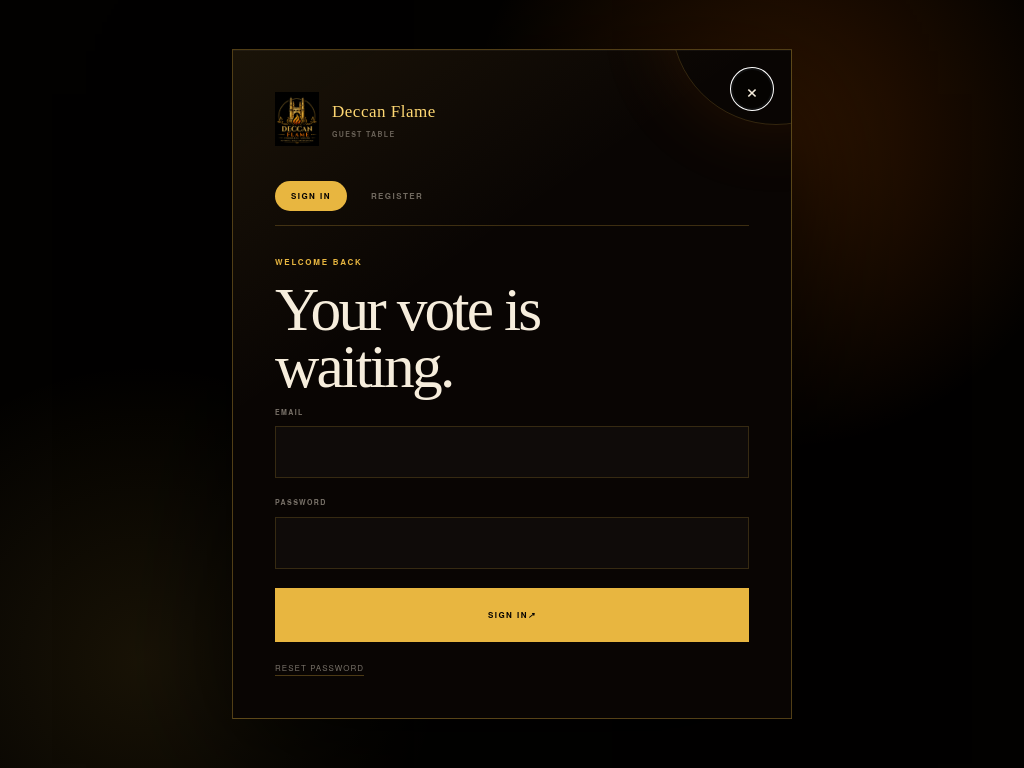
it: account dialog › requires an email before requesting a password reset
Click the button "Reset password" at (320, 668), box [275,660,364,676]
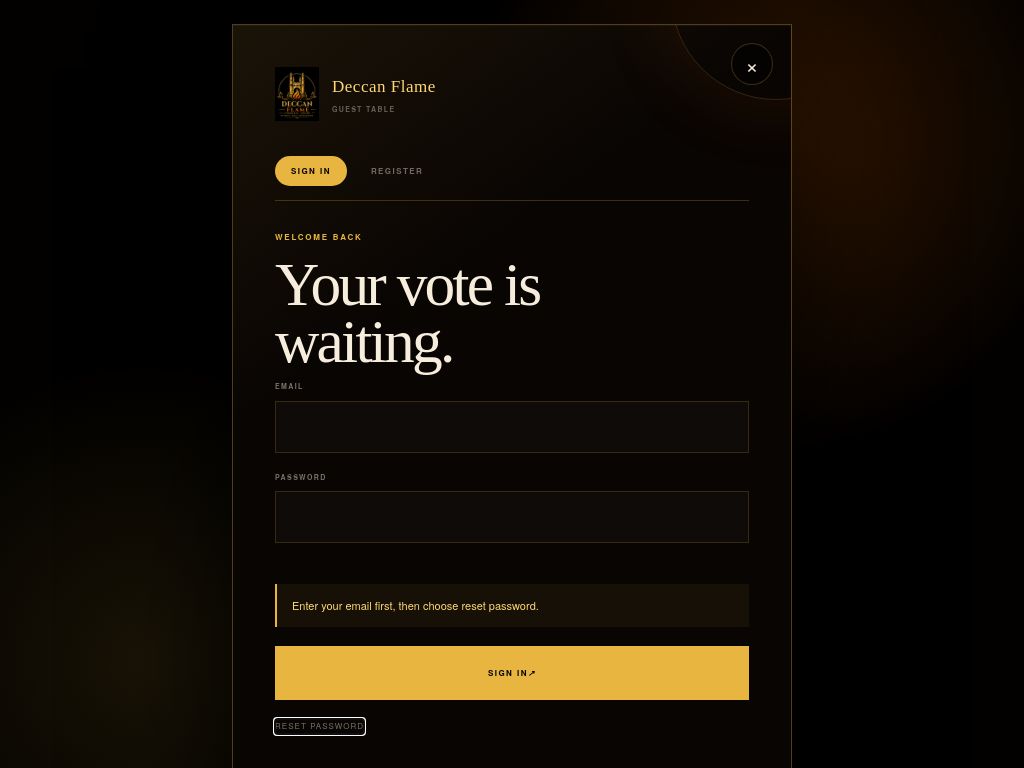
Now the message shows "Enter your email first", box [292,597,539,613]
